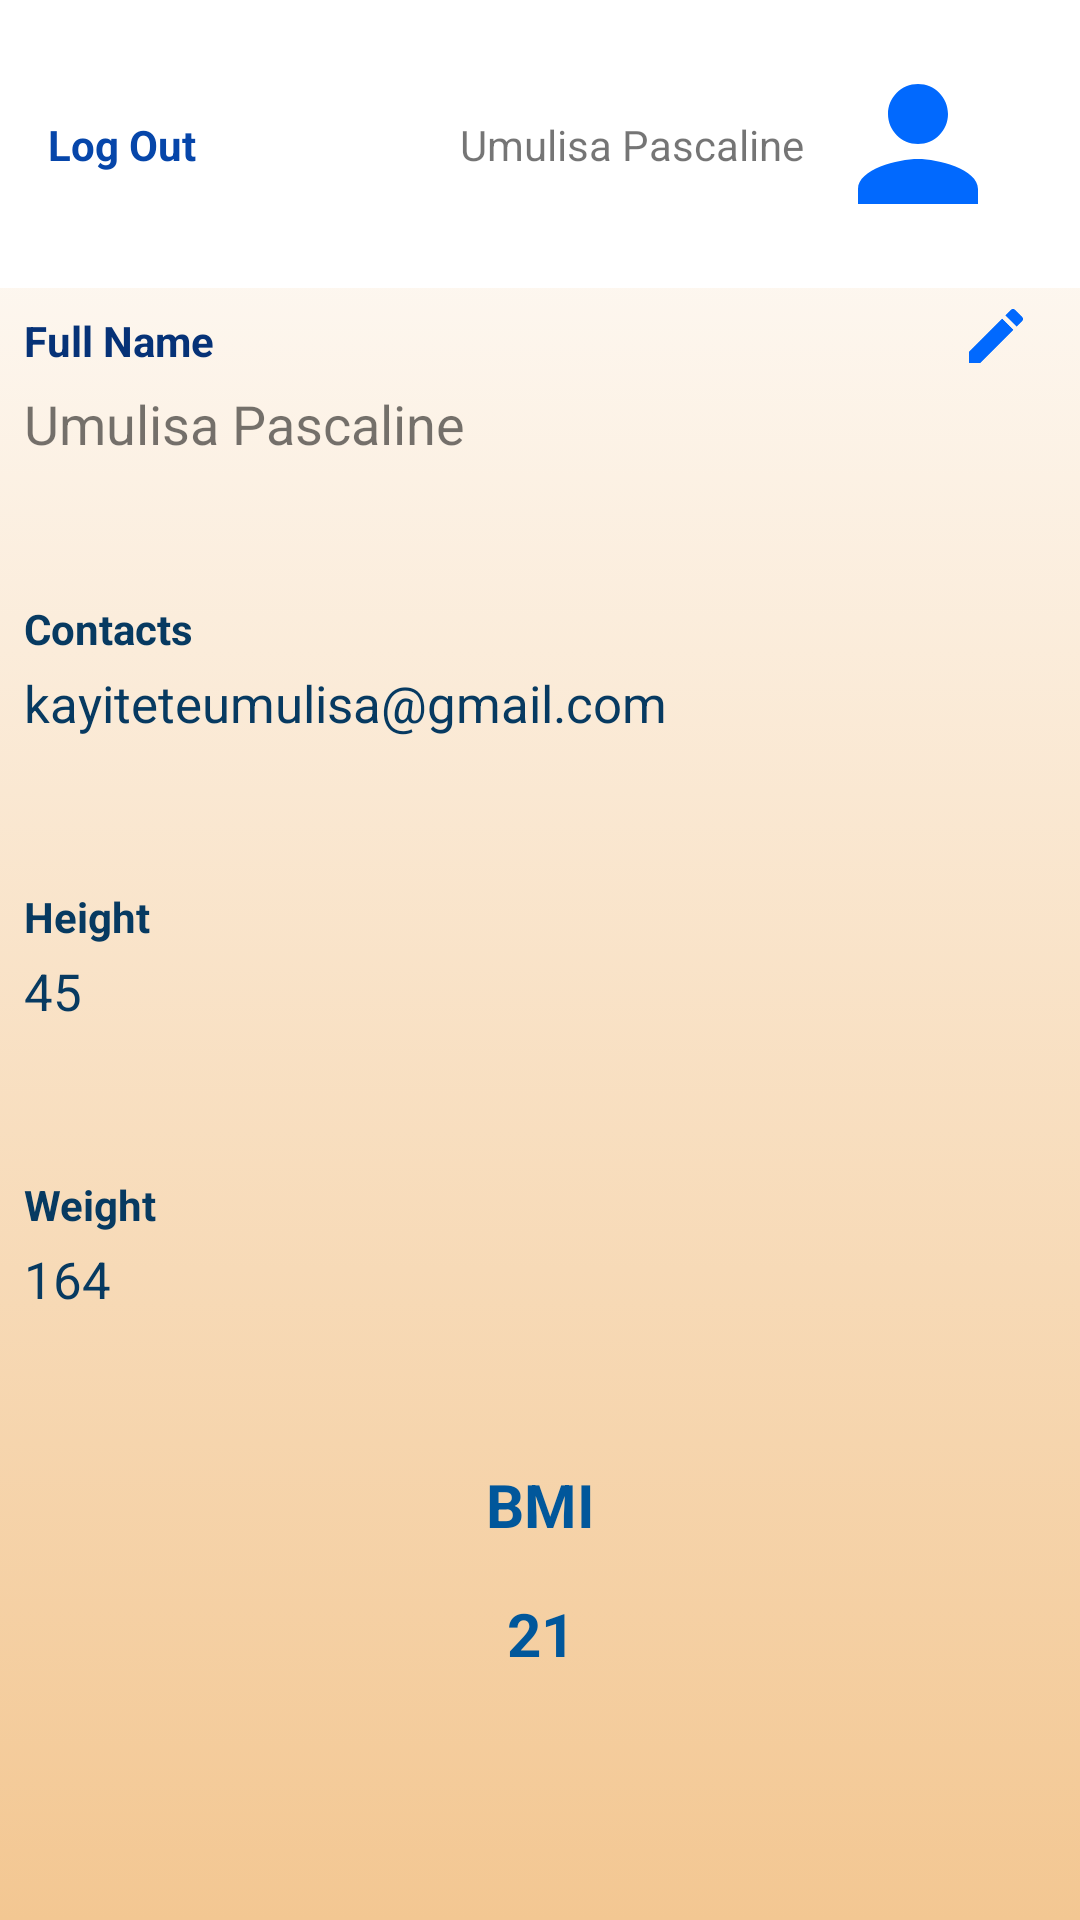

Icons on this 1080×1920 Android screen, each with the point to tap as (x=x, y=y):
edit: (x=996, y=336)
person: (x=918, y=144)
